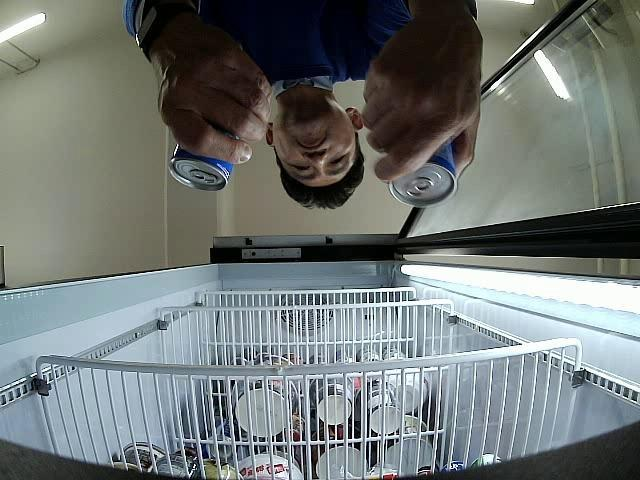15_letsbe: (388, 138, 457, 208), (169, 139, 234, 192)
